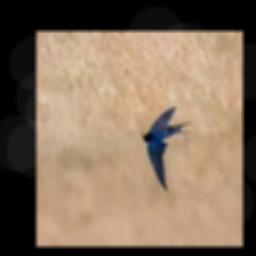Swallow: (142, 109, 191, 192)
